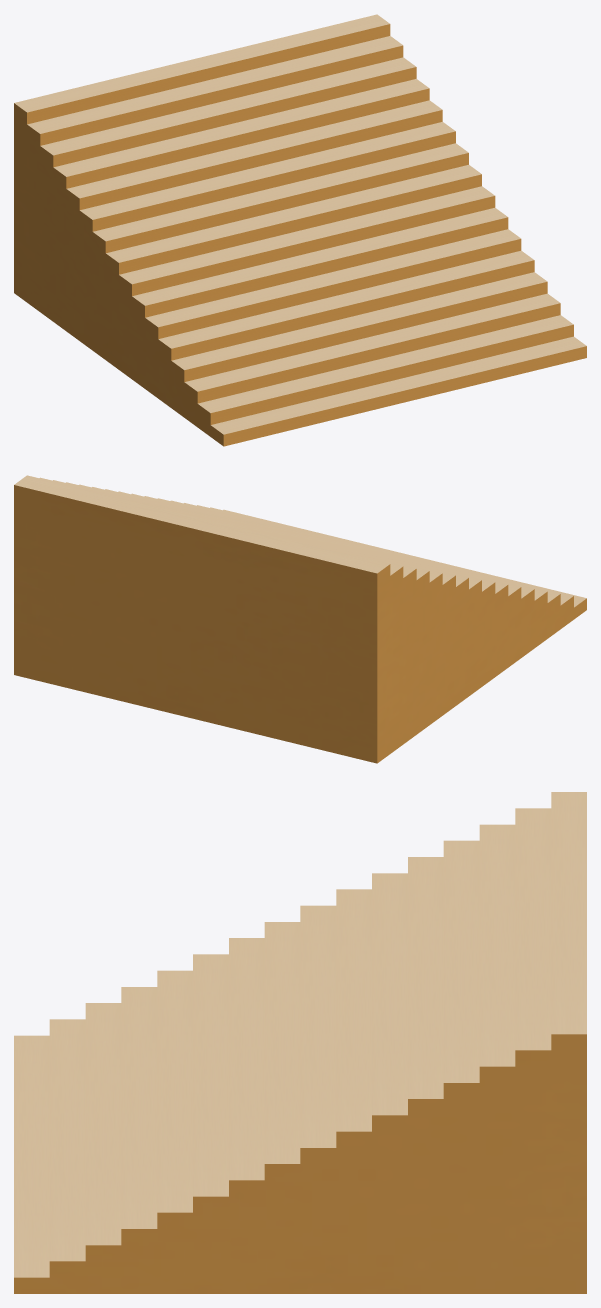
The model's file is rc_wa_stairs_8x8x4.glb.
3 renders of one model, top to bottom at view 1: azimuth 30°, elevation 25°; view 2: azimuth 150°, elevation 25°; view 3: azimuth 270°, elevation 25°, orthographic. The views are drawn at different scales.
Visible parts, largest first — view 1: SM_RC_WA_Stairs_8x8x4; view 2: SM_RC_WA_Stairs_8x8x4; view 3: SM_RC_WA_Stairs_8x8x4.
Boxes of the visible parts, x1=… form: SM_RC_WA_Stairs_8x8x4: x1=14, y1=14, x2=586, y2=446; SM_RC_WA_Stairs_8x8x4: x1=14, y1=475, x2=586, y2=763; SM_RC_WA_Stairs_8x8x4: x1=14, y1=792, x2=586, y2=1293.
Bounding box in the file's own units: 8 × 4 × 8.
Materials: 1 (1 with a texture image).
